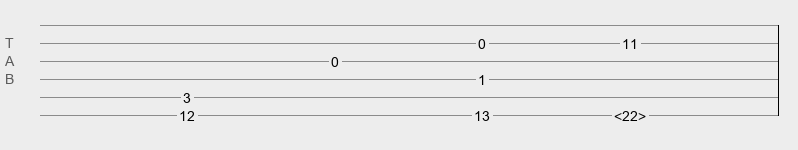0: (331, 54, 339, 64), (478, 36, 486, 46)
1: (478, 72, 486, 82)
11: (622, 36, 638, 46)
12: (179, 108, 195, 118)
13: (474, 108, 490, 118)
3: (183, 90, 191, 100)
harmonic: (614, 108, 646, 118)
